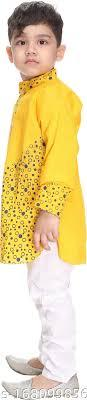Human: (0, 0, 81, 394)
